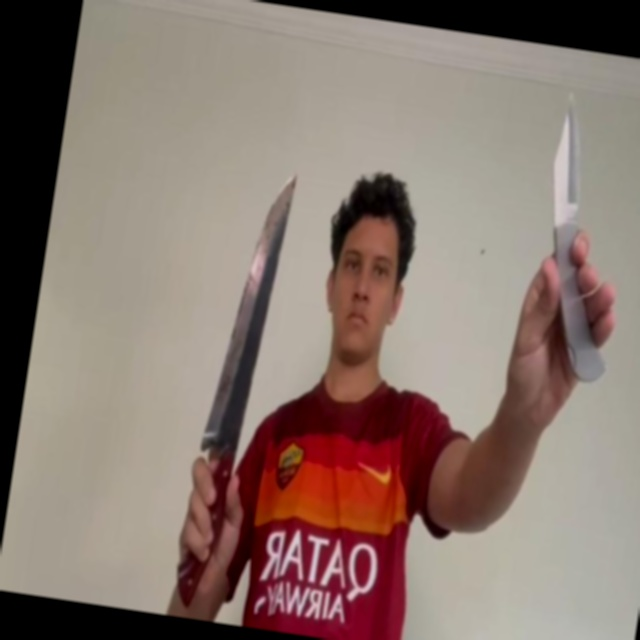Sharp-Object: (199, 166, 299, 451), (546, 93, 596, 218)
